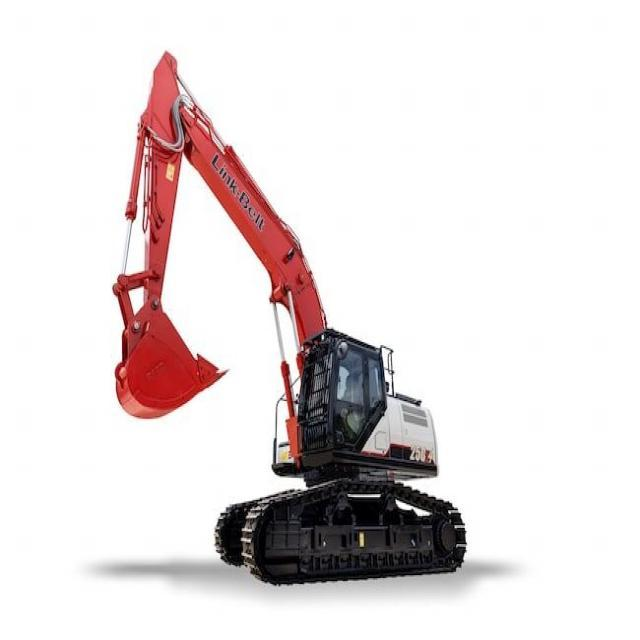C_E: (110, 46, 470, 592)
